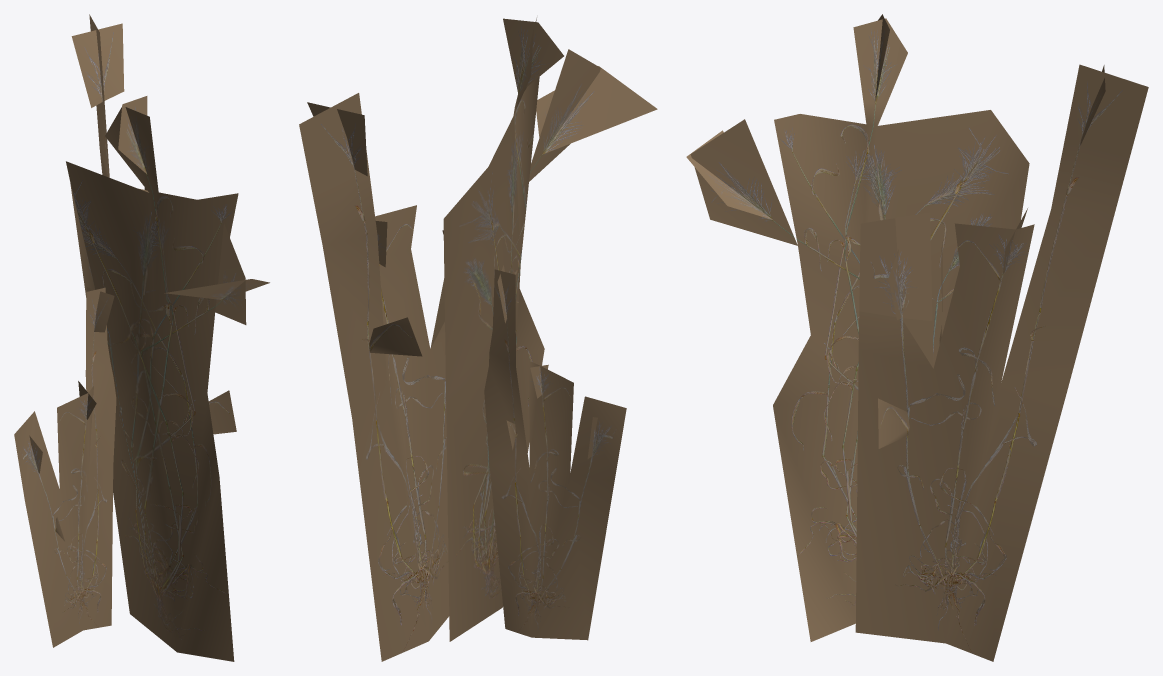
File: sm_DryPlant_01_02.fbx
3 views of the same model, side by side, from view 1: azimuth 30°, elevation 25°; view 2: azimuth 150°, elevation 25°; view 3: azimuth 270°, elevation 25° (orthographic). The views are drawn at different scales.
Parts seen in each view (by area): view 1: sm_DryPlant_01_02_LOD0; view 2: sm_DryPlant_01_02_LOD0; view 3: sm_DryPlant_01_02_LOD0.
Part boxes in pixels (x1,y1,x2,y2): sm_DryPlant_01_02_LOD0: (14, 14, 269, 661); sm_DryPlant_01_02_LOD0: (299, 18, 657, 661); sm_DryPlant_01_02_LOD0: (686, 14, 1148, 661).
Bounding box in the file's own units: 59.04 × 105 × 151.
